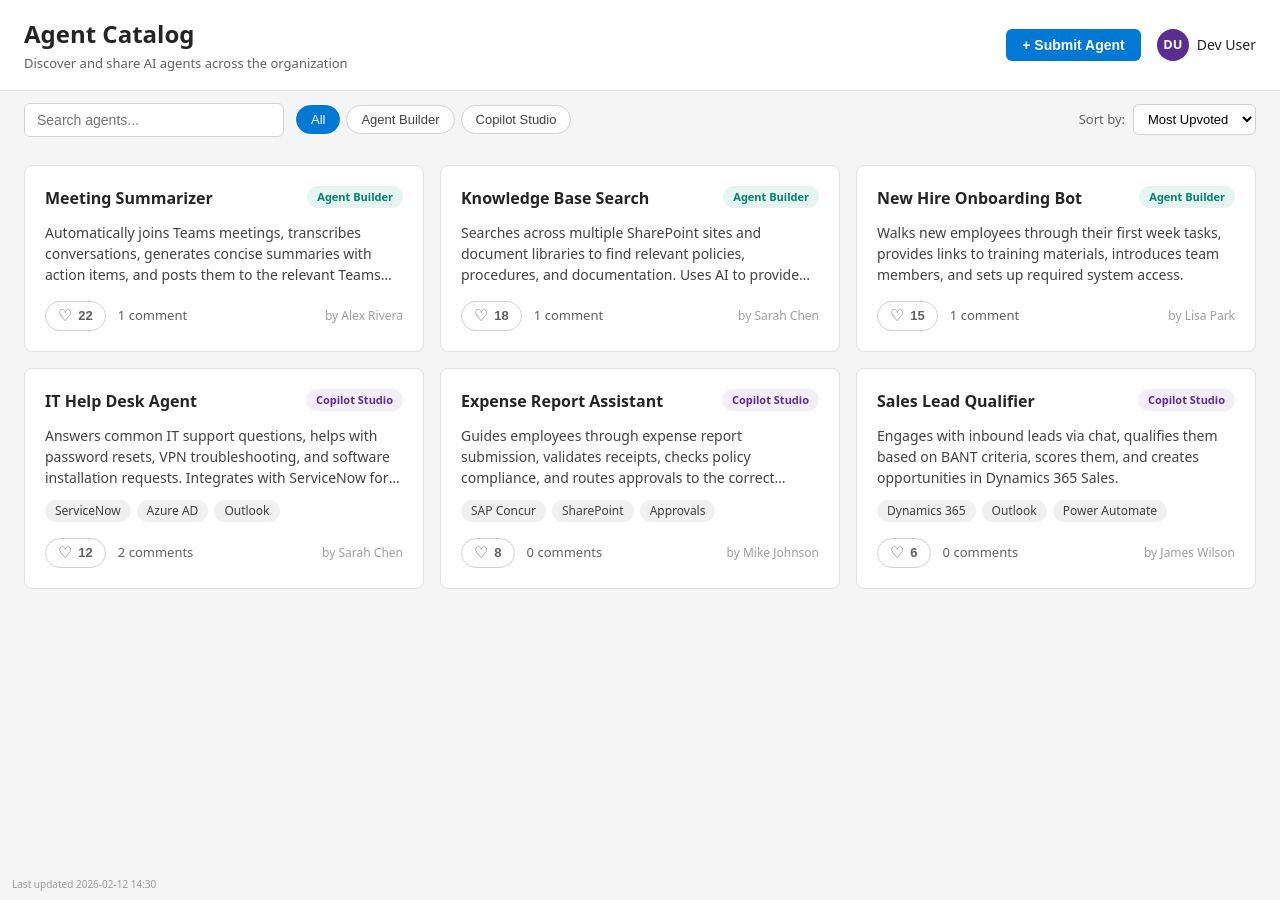
Test case: App › navigates to agent detail view when card is clicked
Click the heading "Meeting Summarizer".
click(129, 198)  # box x1=45 y1=186 x2=213 y2=210
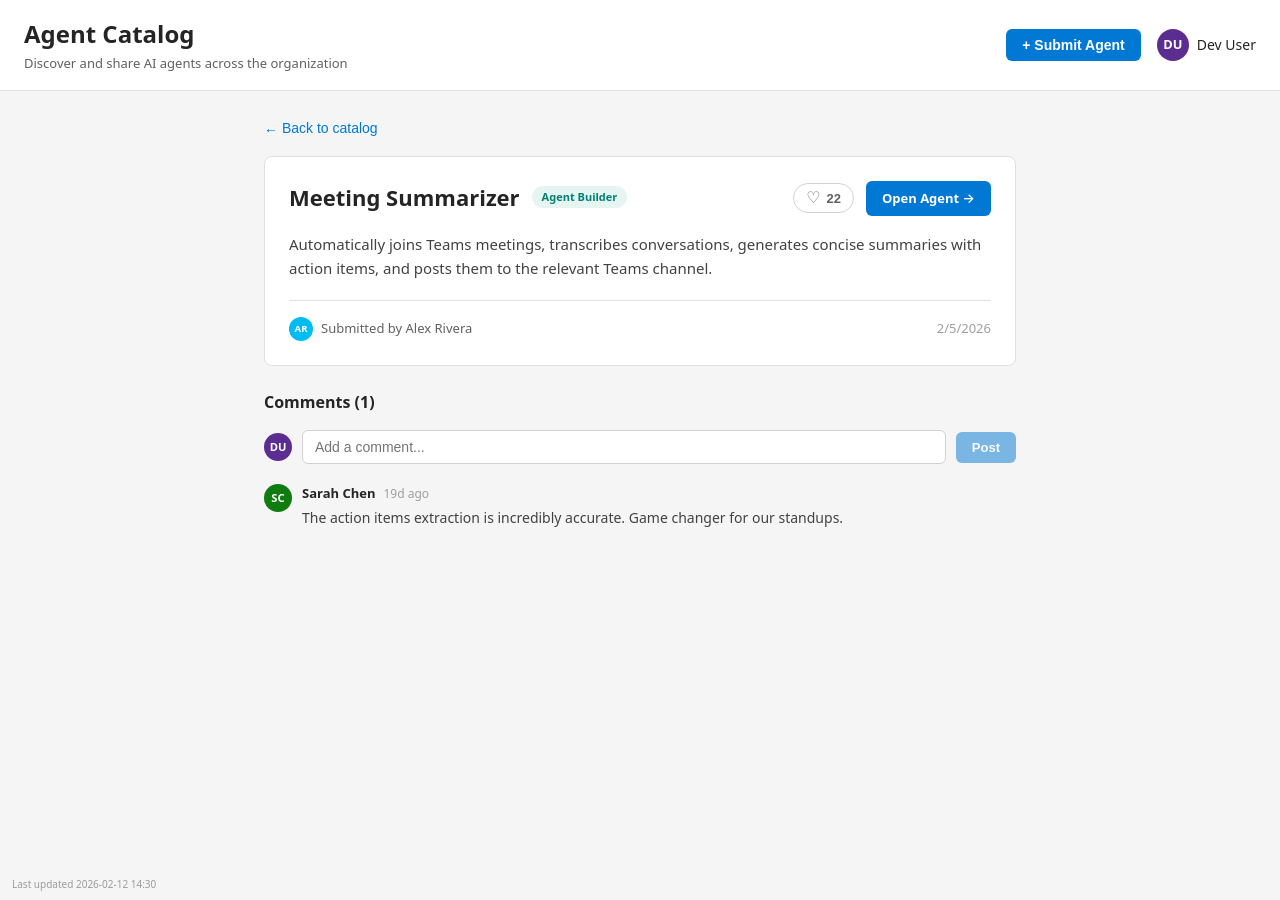
Expected: the button "← Back to catalog" is shown, x1=264 y1=116 x2=378 y2=140
Expected: the link "Open Agent →" is shown, x1=866 y1=180 x2=991 y2=216
